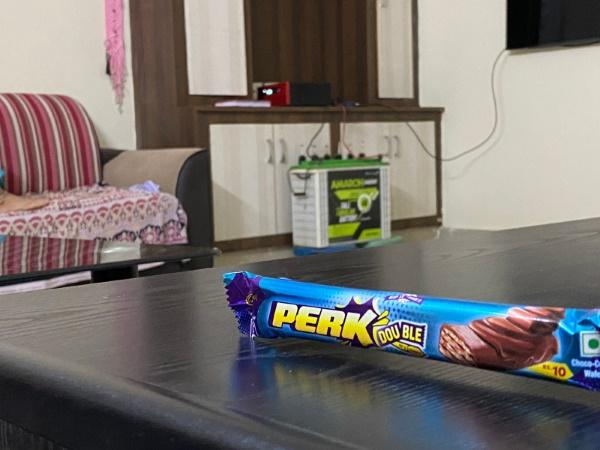Perk: (223, 268, 600, 402)
